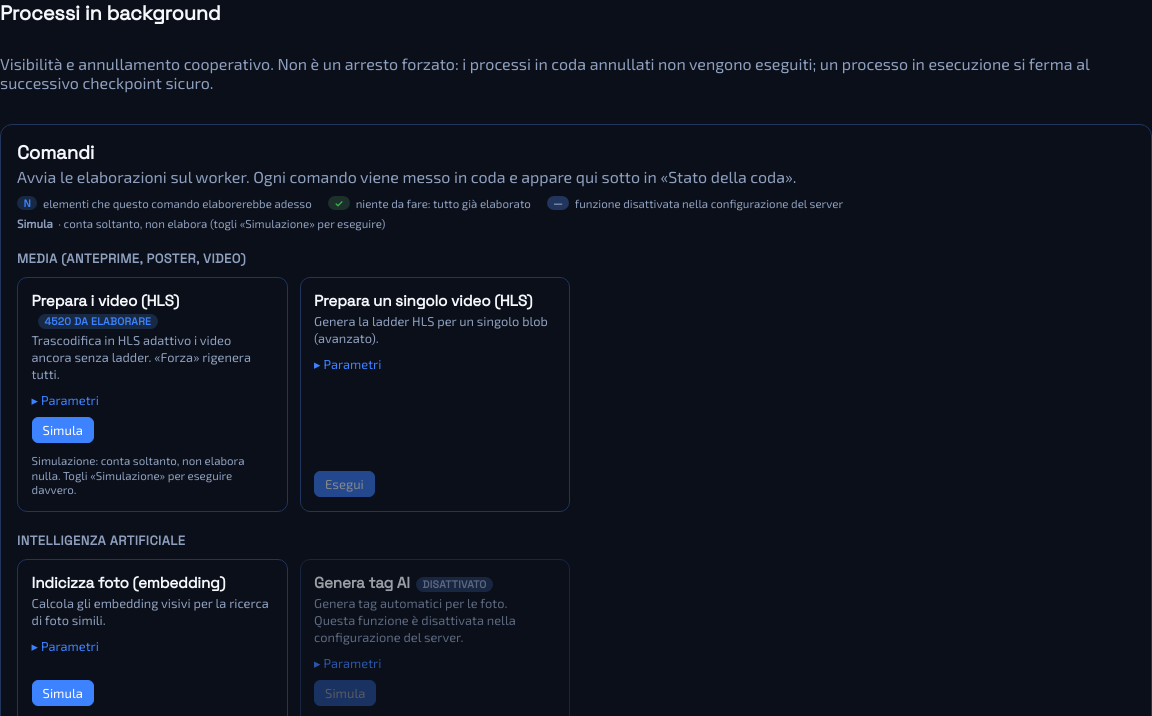
it: AdminJobsPage — commands console › switches the action back to Esegui when dry-run is unchecked
The width and height of the screenshot is (1152, 716).
Expected: the heading "Prepara i video (HLS) 4520 da elaborare" is shown, [32,291,179,329]
Click the button "▸ Parametri" below "4520 da elaborare": click(65, 400) [32,392,99,408]
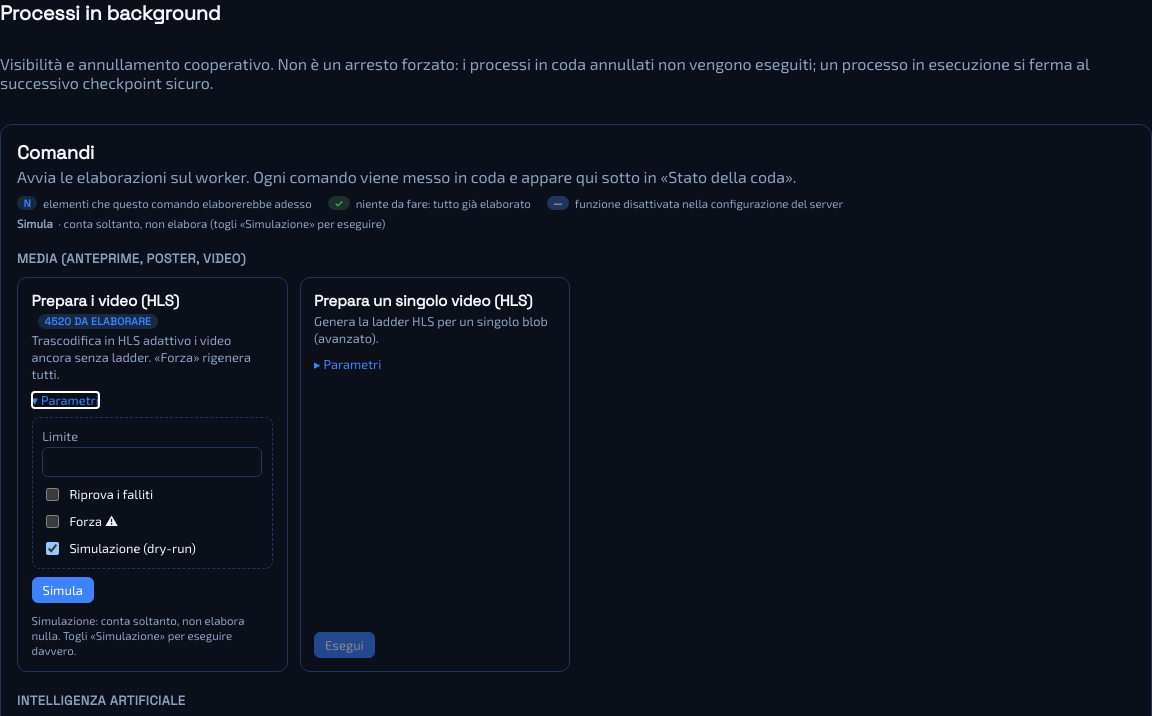
Expected: the button "Simula" is shown, [32,577,94,603]
Click the checkbox labelled "Simulazione (dry-run)": click(53, 548) [46,542,59,555]
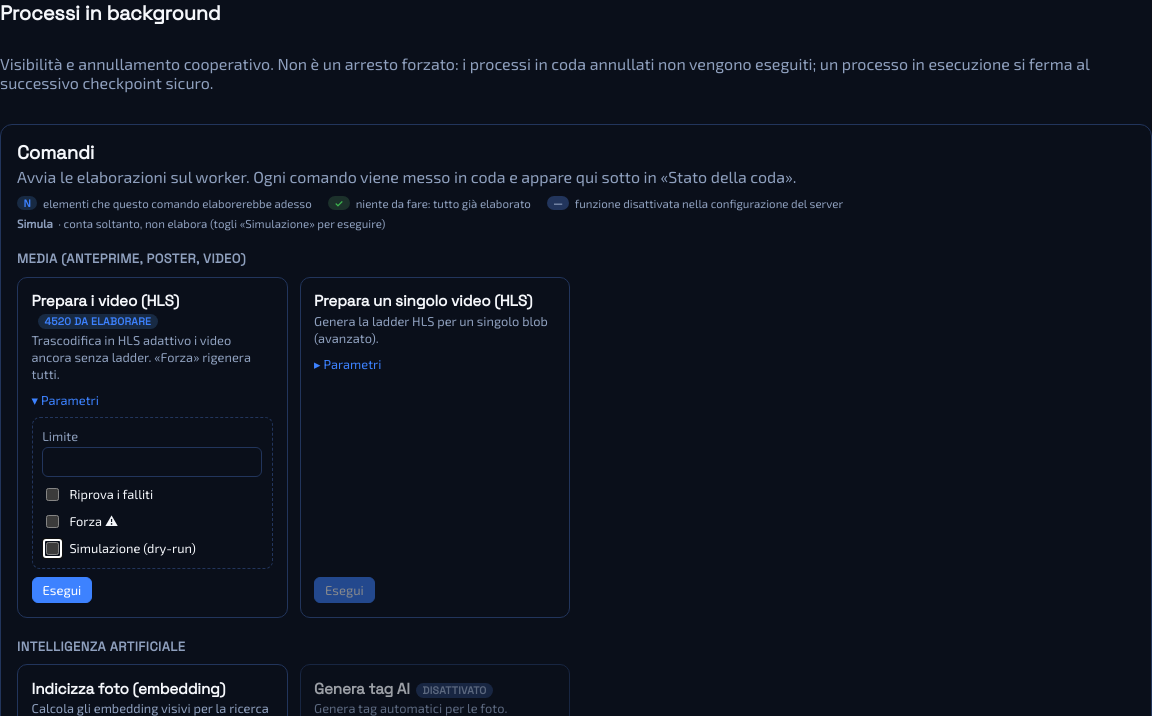
Expected: the button "Esegui" below "Simulazione (dry-run)" is shown, [32,577,92,603]
